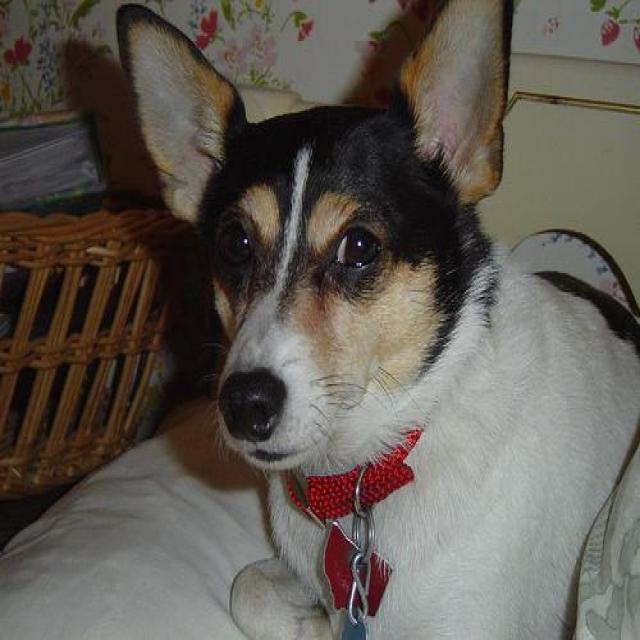toy_terrier: (116, 2, 638, 638)
